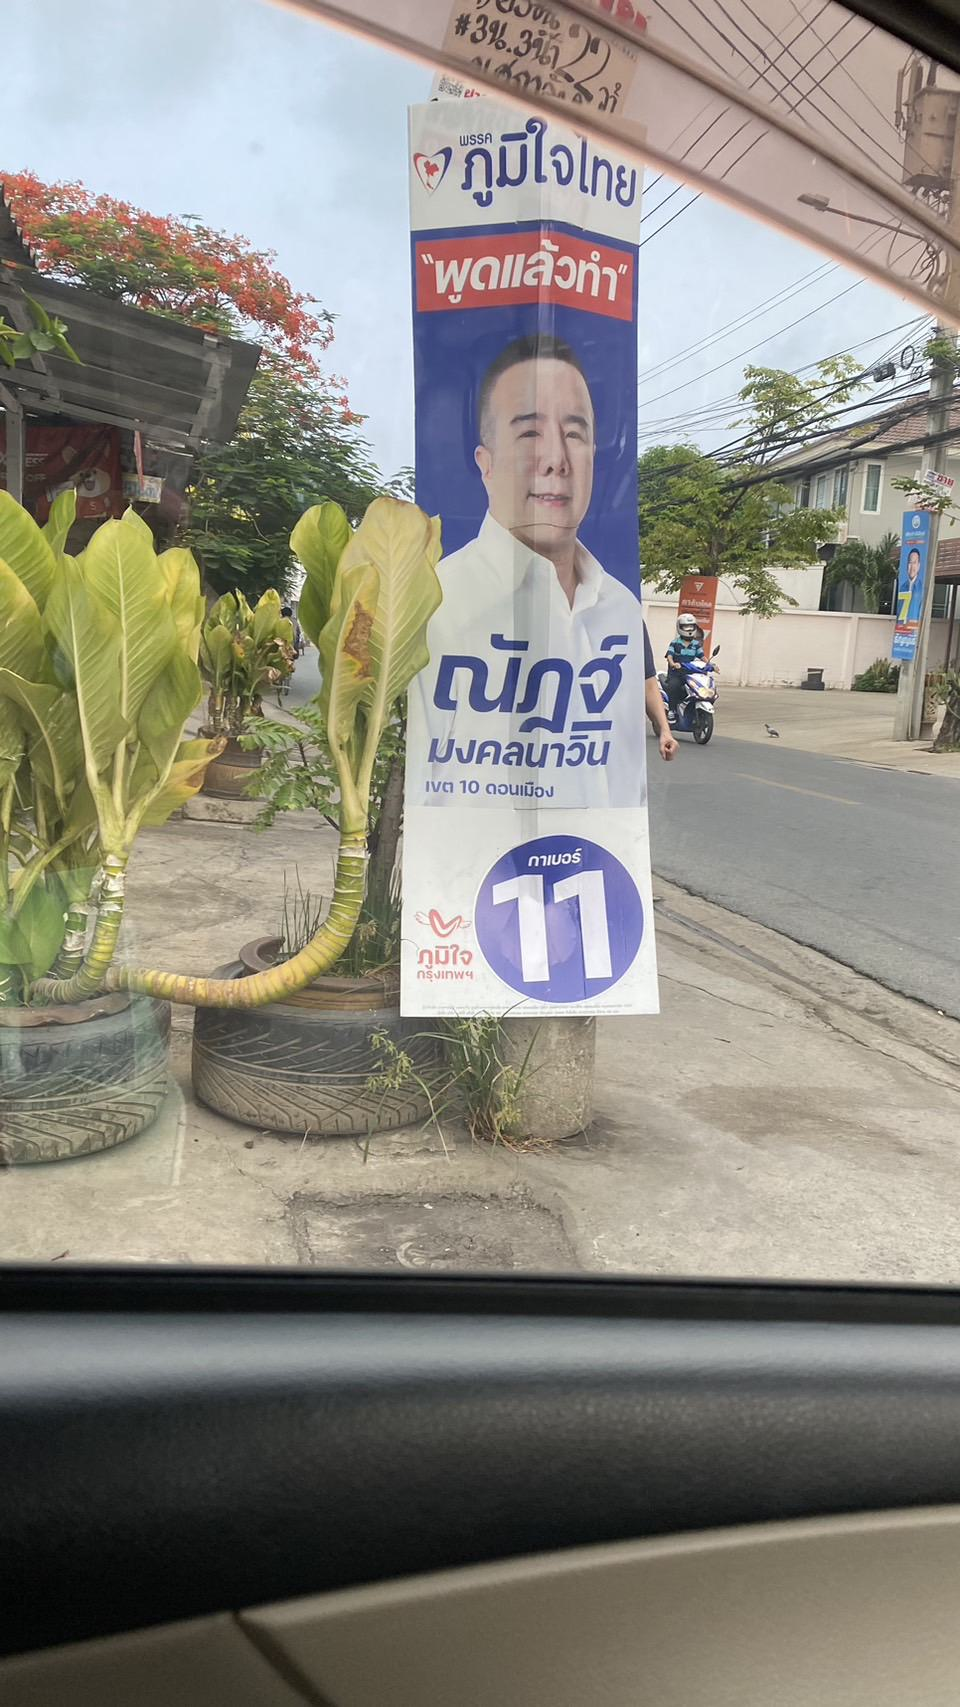Banner: (407, 98, 670, 1043)
